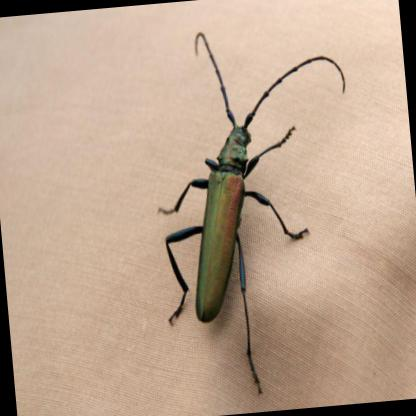blister beetle: (165, 34, 317, 325)
